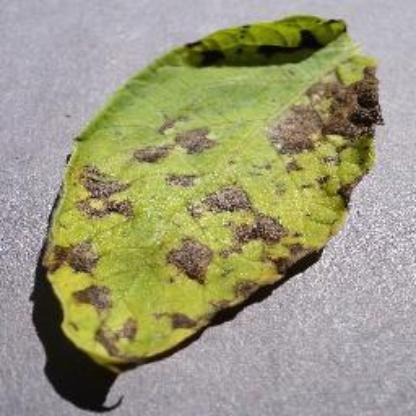Early-Blight: (36, 10, 390, 376)
